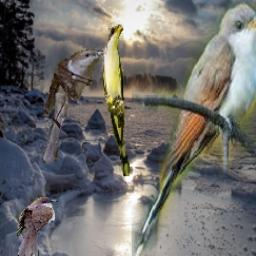Cuckoo: (132, 1, 256, 256), (41, 50, 104, 164), (102, 23, 130, 176), (16, 197, 58, 256)
